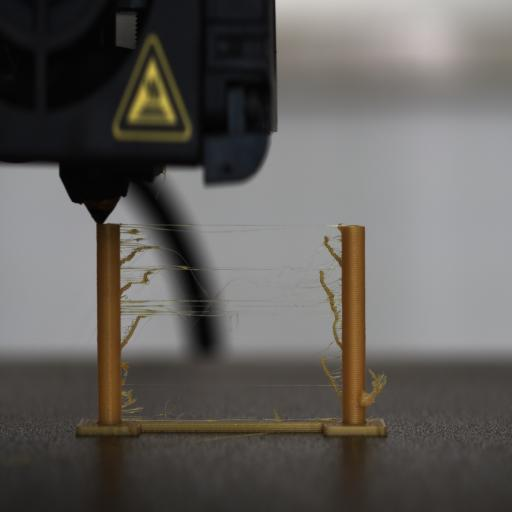stringing: (118, 216, 343, 353)
